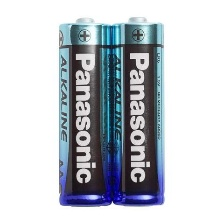battery: (106, 15, 166, 208), (56, 15, 115, 208)
